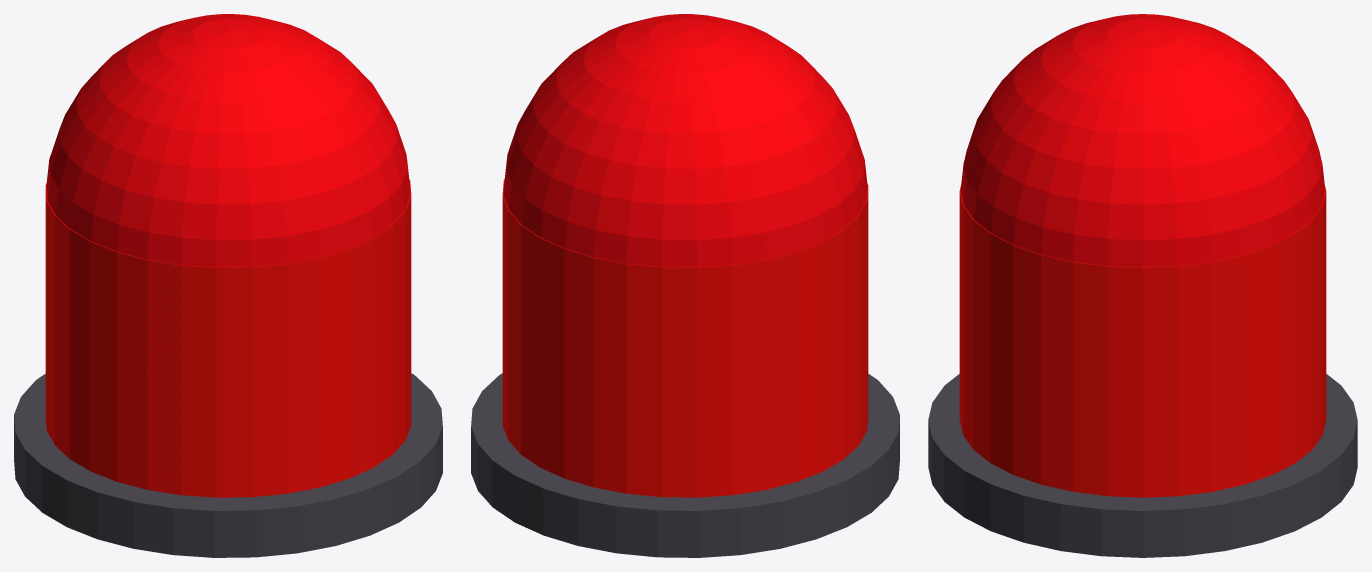
Rendered from alarm.fbx.
3 renders of one model, left to right at view 1: azimuth 30°, elevation 25°; view 2: azimuth 150°, elevation 25°; view 3: azimuth 270°, elevation 25°, orthographic.
Parts seen in each view (by area): view 1: Cilindro.001, Sfera, Cilindro; view 2: Cilindro.001, Sfera, Cilindro; view 3: Cilindro.001, Sfera, Cilindro.
Part boxes in pixels (left/top/right/bottom): Cilindro.001: left=45, top=179, right=411, bottom=497; Sfera: left=46, top=14, right=410, bottom=267; Cilindro: left=14, top=373, right=442, bottom=557; Cilindro.001: left=502, top=179, right=868, bottom=497; Sfera: left=503, top=14, right=867, bottom=267; Cilindro: left=471, top=373, right=899, bottom=557; Cilindro.001: left=959, top=186, right=1326, bottom=497; Sfera: left=960, top=14, right=1325, bottom=267; Cilindro: left=928, top=374, right=1357, bottom=557.
Bounding box in the file's own units: 200 × 224 × 200.
